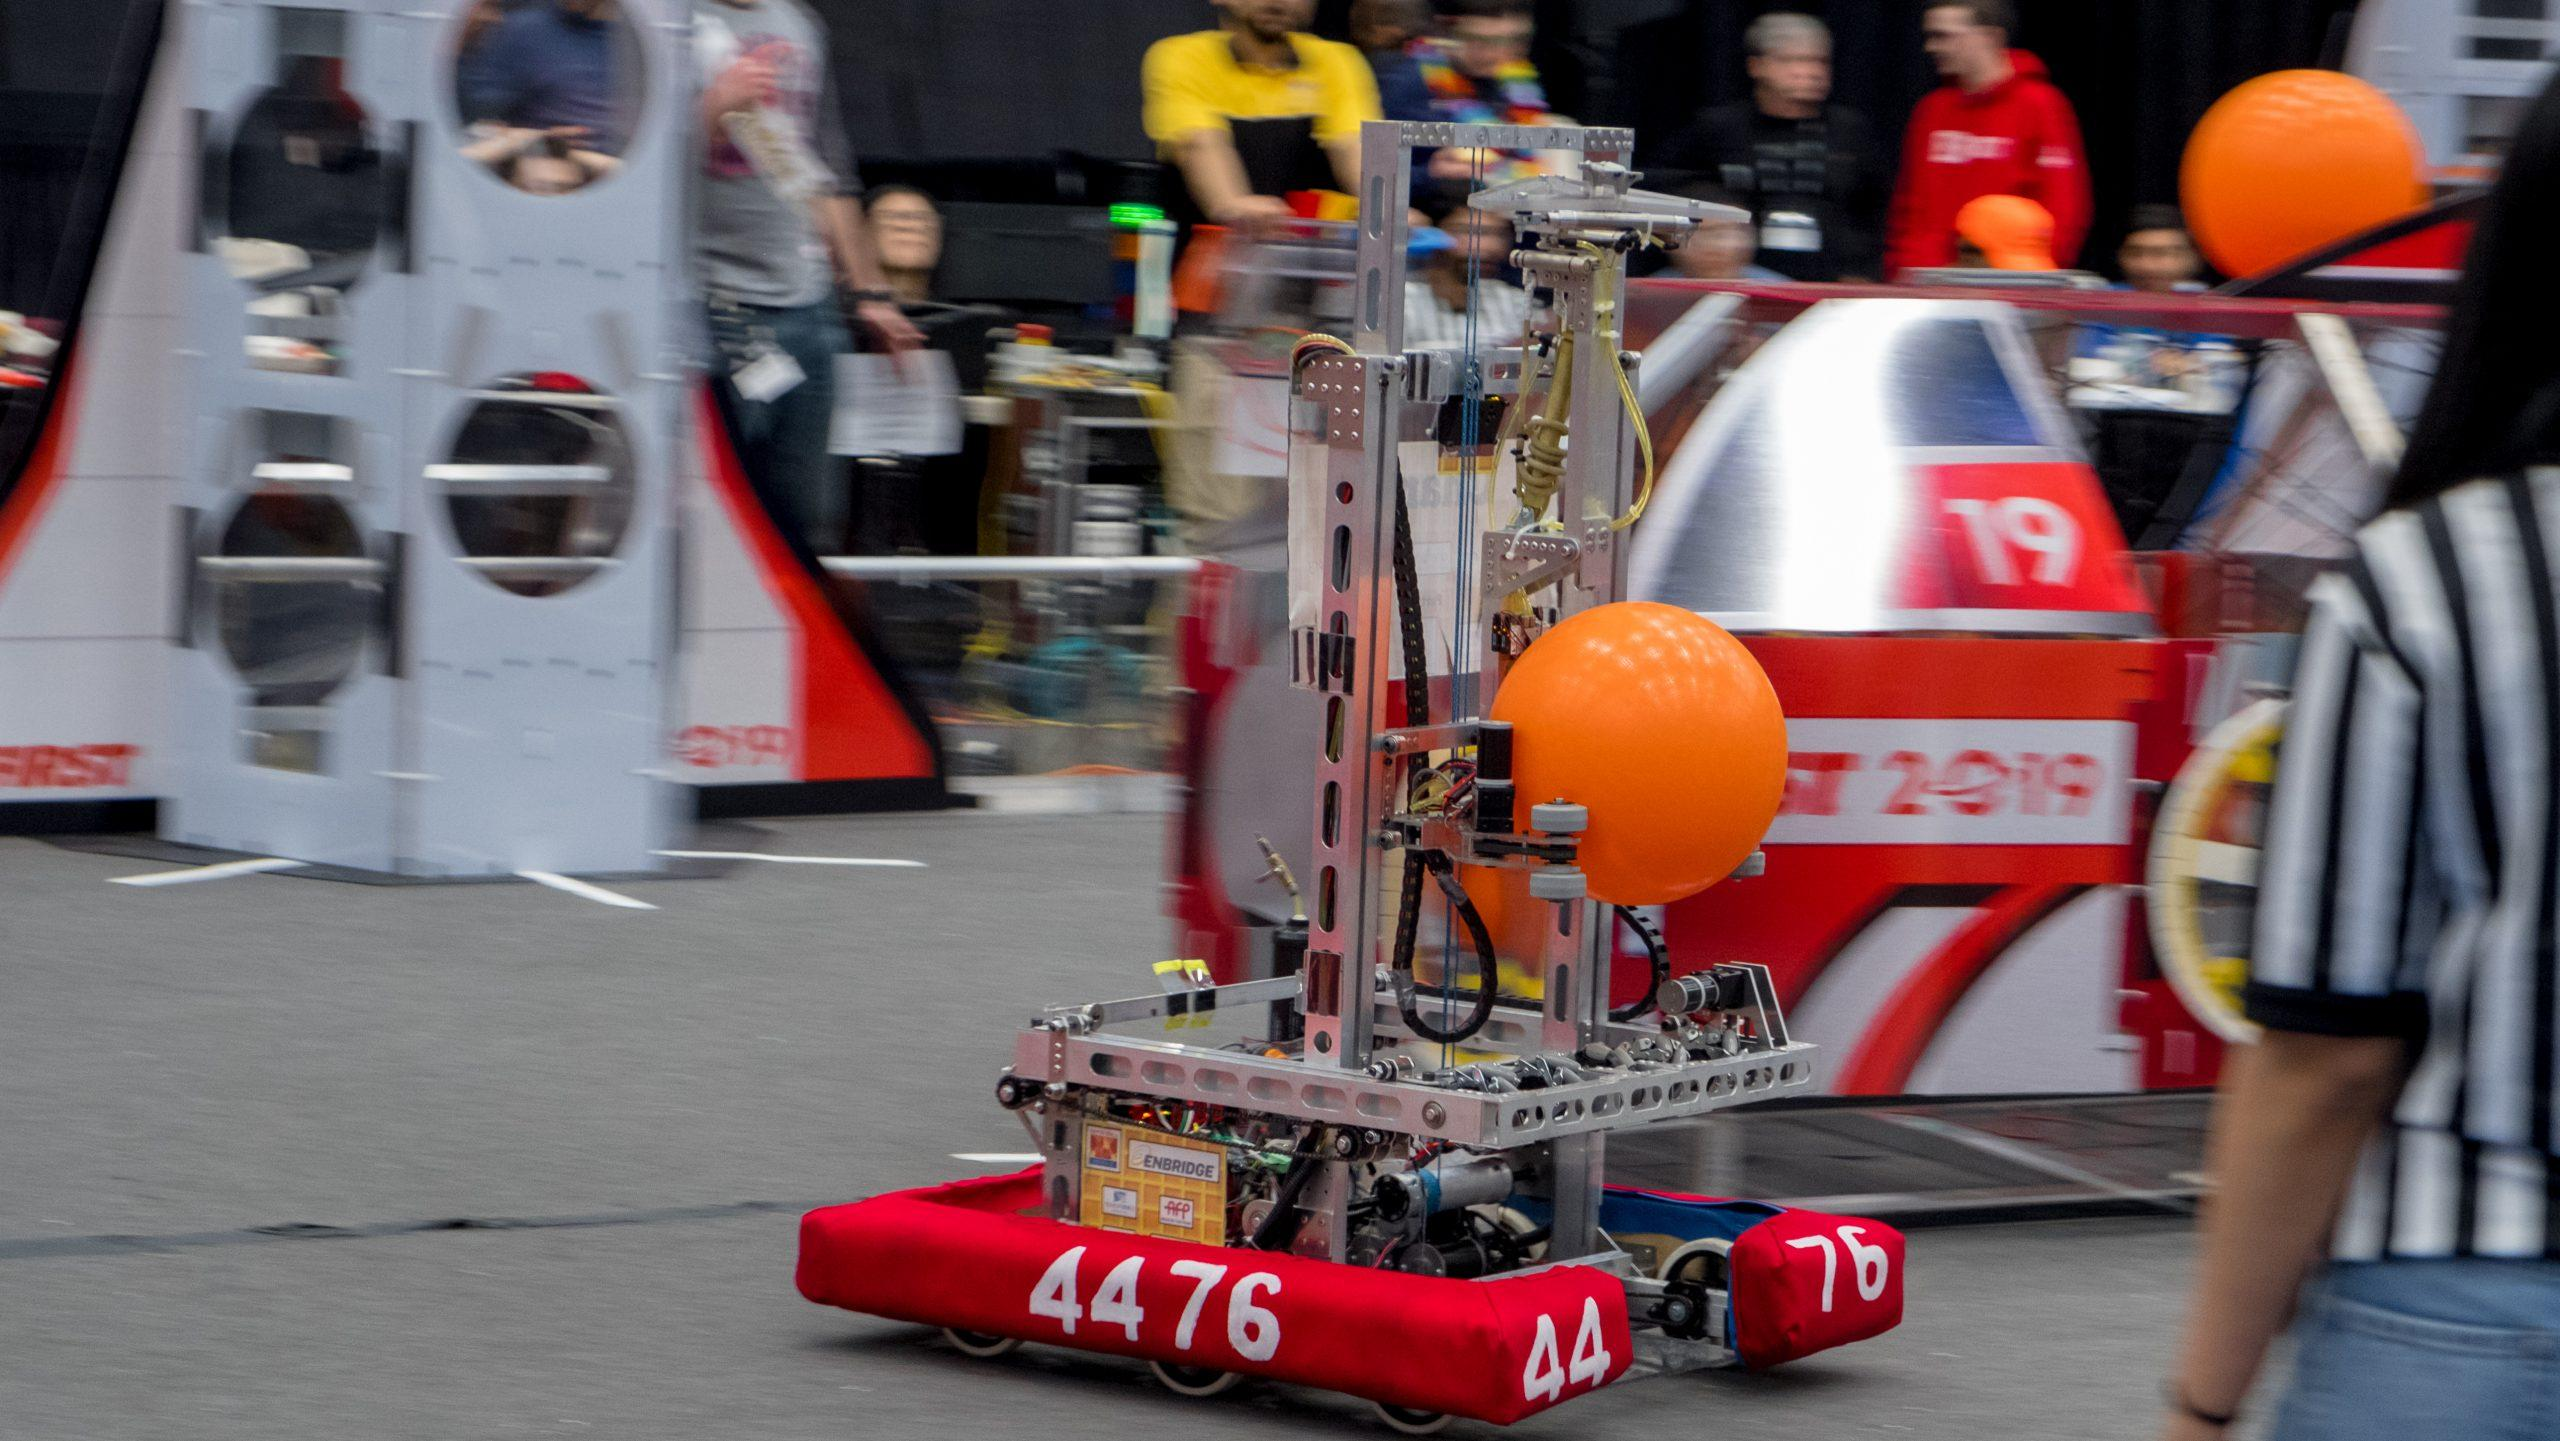robot: (795, 104, 1908, 1425)
